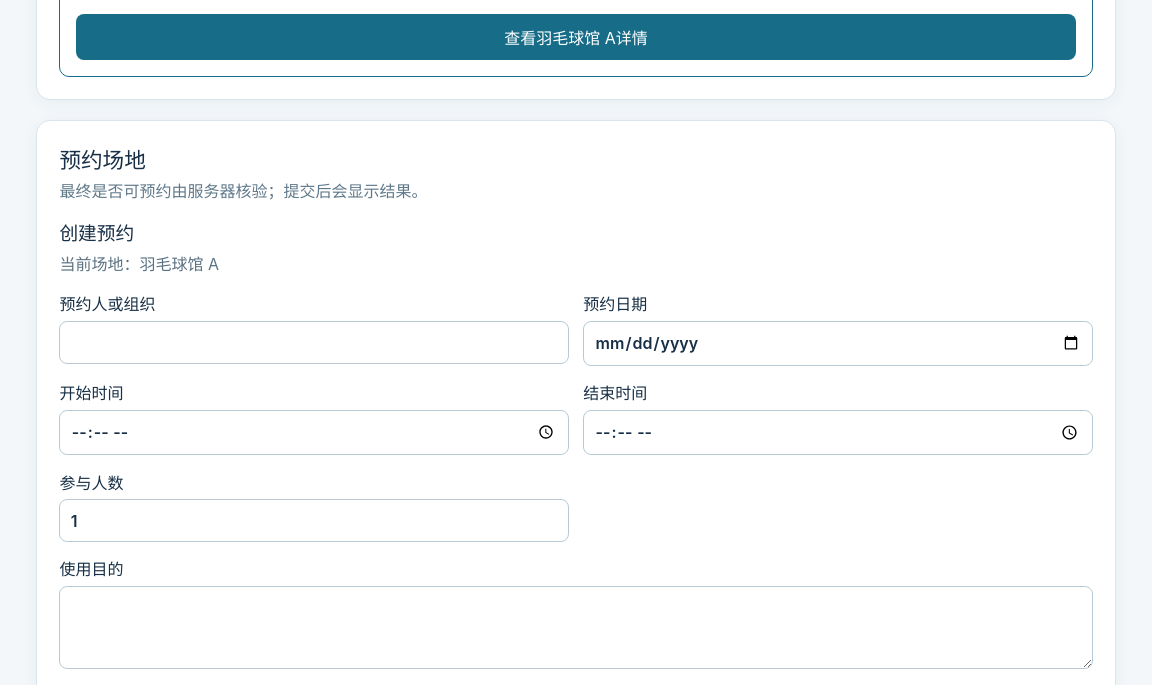
Test: 场地预约页面 › 显示后端返回的冲突错误，不伪造预约成功
(page scrolled)
Type "软件技术小组" into the field labelled "预约人或组织".
click(314, 342); type("软件技术小组")  # box [59,321,569,364]
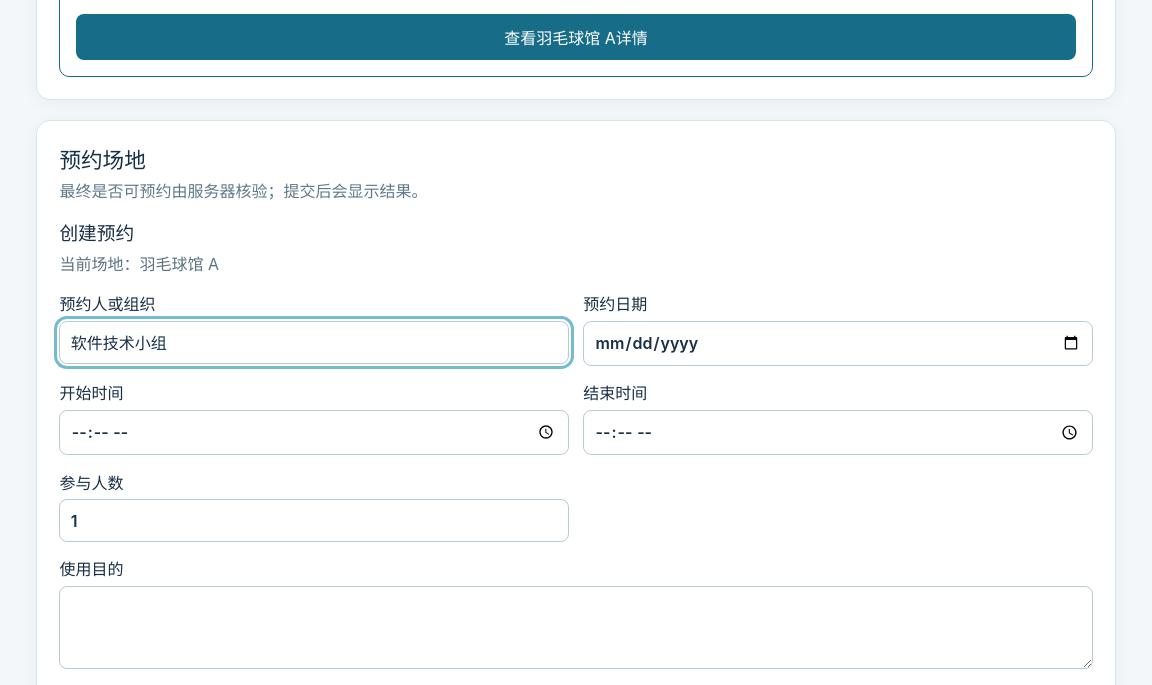
Type "2030-10-30" into the date field labelled "预约日期".
click(838, 343); type("2030-10-30")  # box [583,321,1093,366]
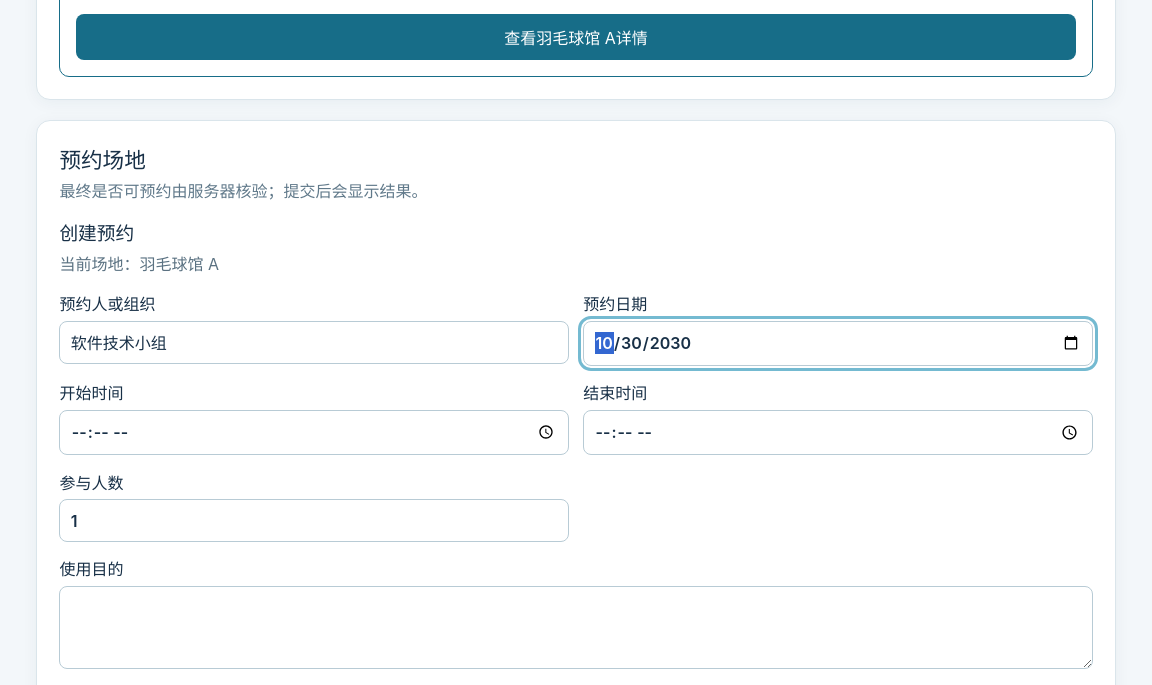
Type "10:00" into the time field labelled "开始时间".
click(314, 432); type("10:00")  # box [59,410,569,455]
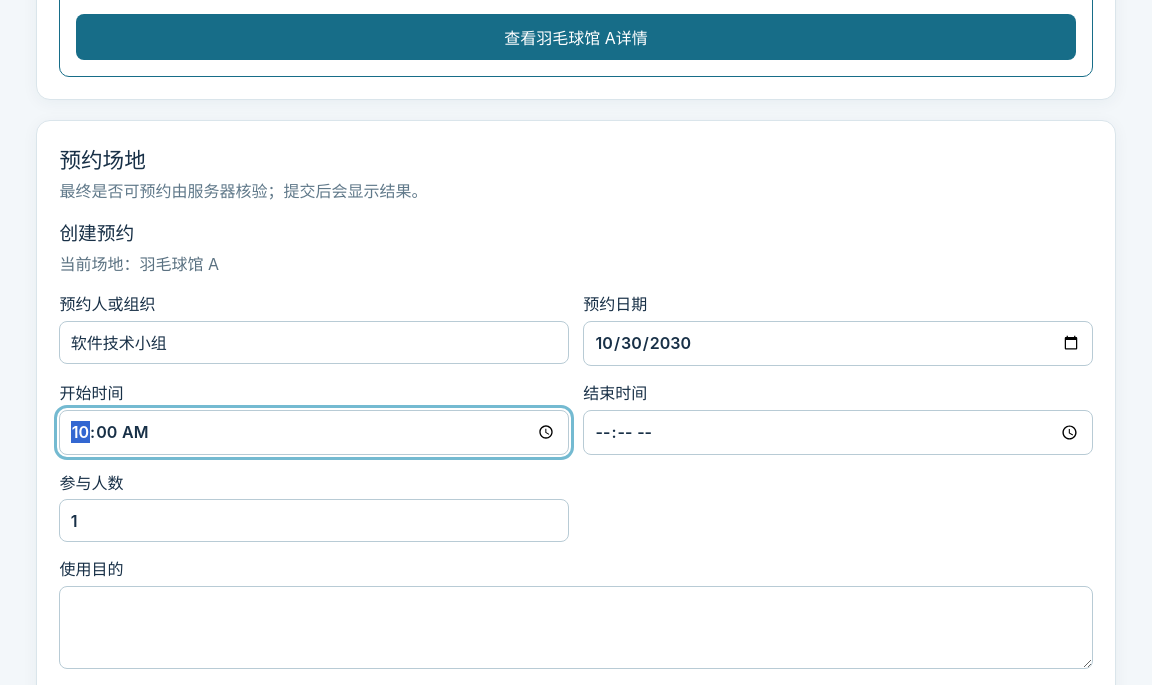
Type "11:00" into the time field labelled "结束时间".
click(838, 432); type("11:00")  # box [583,410,1093,455]
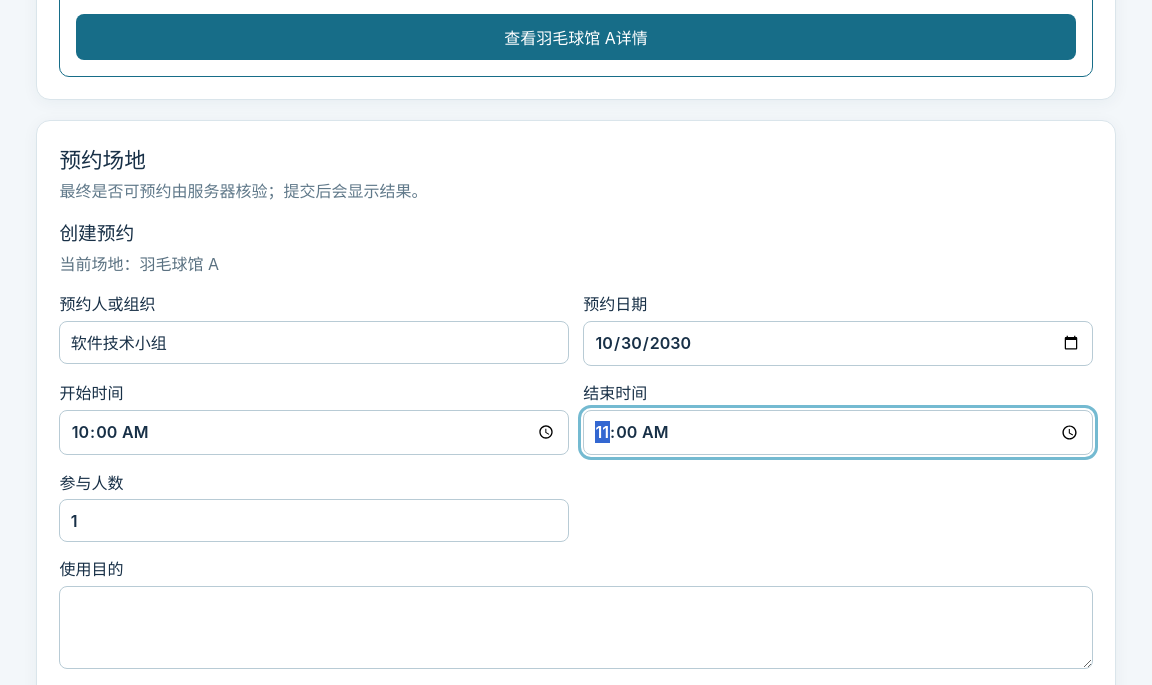
Type "小组活动" into the text box labelled "使用目的".
click(576, 627); type("小组活动")  # box [59,586,1093,669]
(page scrolled)
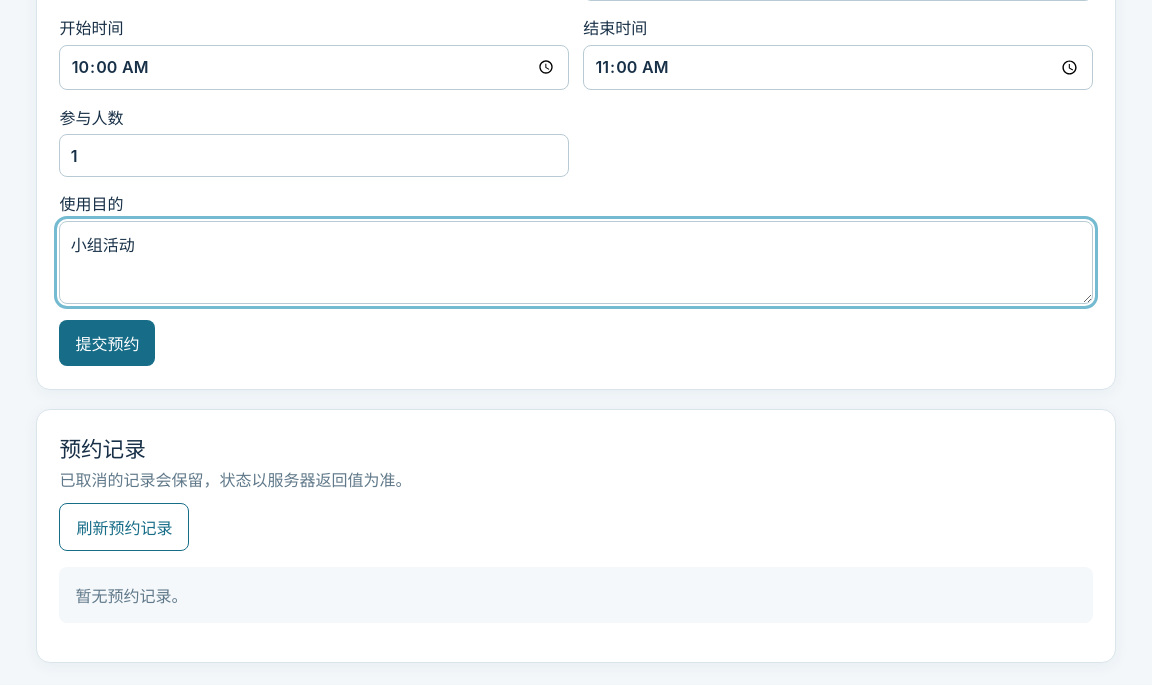
Click the button "提交预约".
click(107, 343)  # box [59,320,155,366]
(page scrolled)
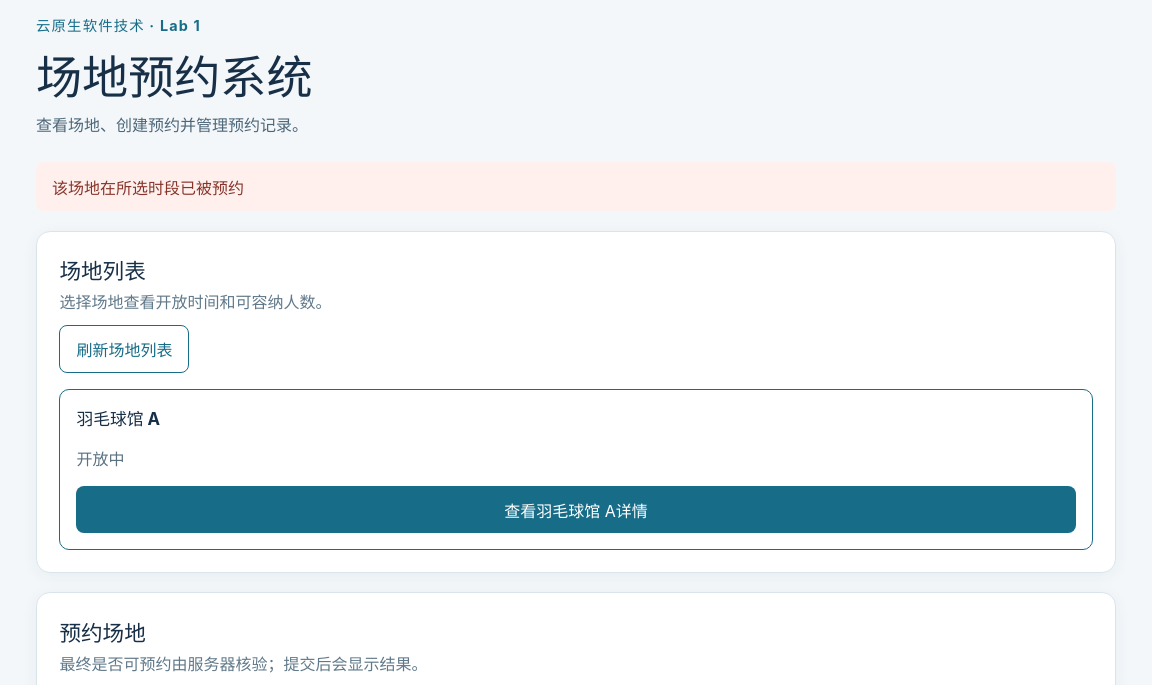
Expected: the message reads "该场地在所选时段已被预约", [52,178,244,198]
